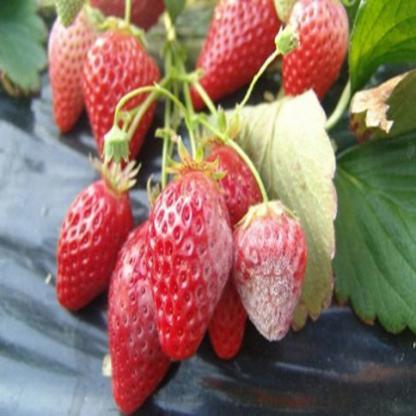Strawberry_Powdery_Mildew_Fruit: (144, 166, 235, 362), (231, 200, 310, 344)
